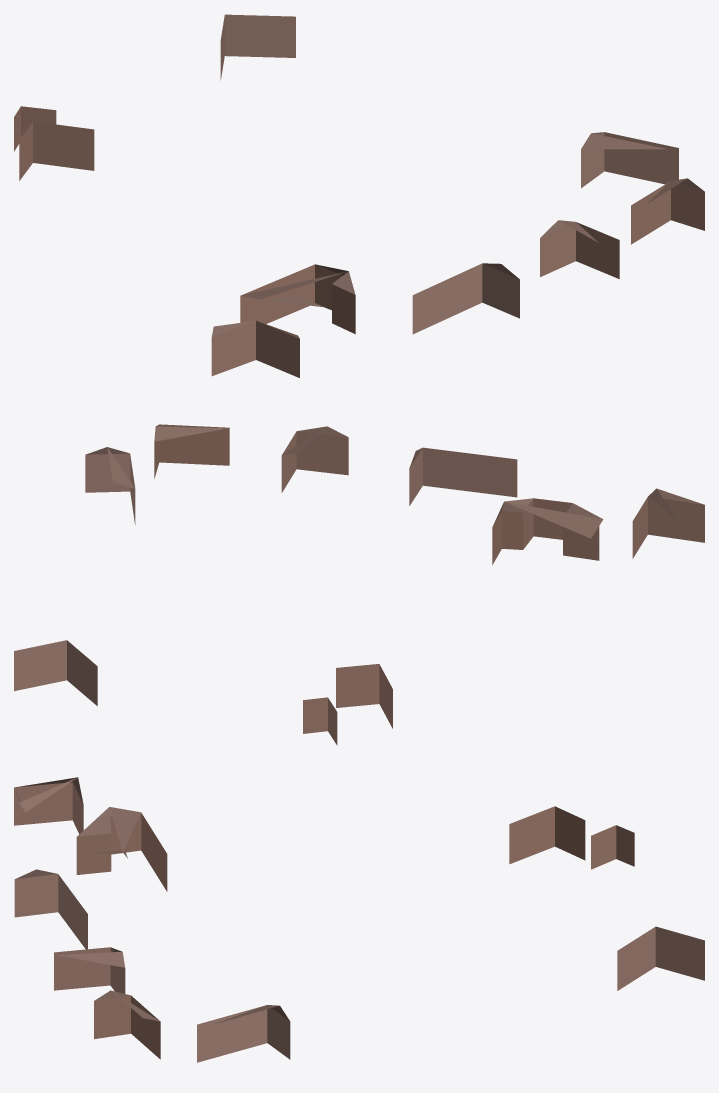
The model's file is c_1646_17834_buildings_residential.glb.
3 views of the same model, one above another, from view 1: azimuth 30°, elevation 25°; view 2: azimuth 150°, elevation 25°; view 3: azimuth 270°, elevation 25° (orthographic). The views are drawn at different scales.
Visible parts, largest first — view 1: geometry_0; view 2: geometry_0; view 3: geometry_0.
Boxes of the visible parts, x1,y1,x2,y2 form: geometry_0: [14, 14, 704, 377]; geometry_0: [14, 424, 704, 745]; geometry_0: [14, 777, 704, 1062].
Size of the model in its own units: 130 by 10.68 by 147.
